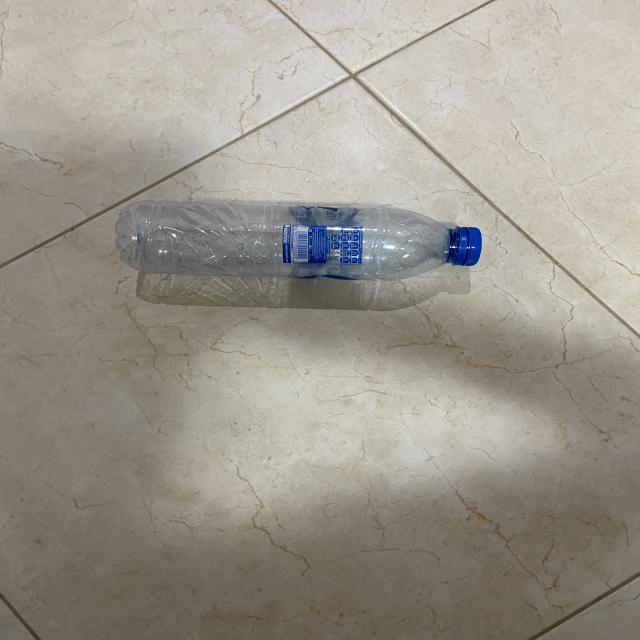bottle: (104, 198, 494, 292)
